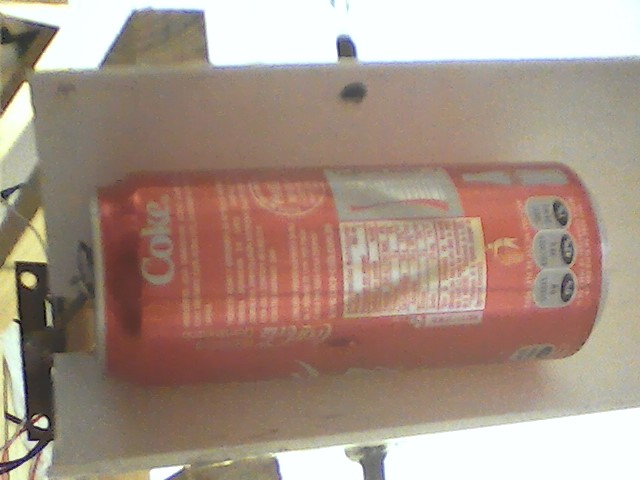lata: (88, 153, 612, 390)
